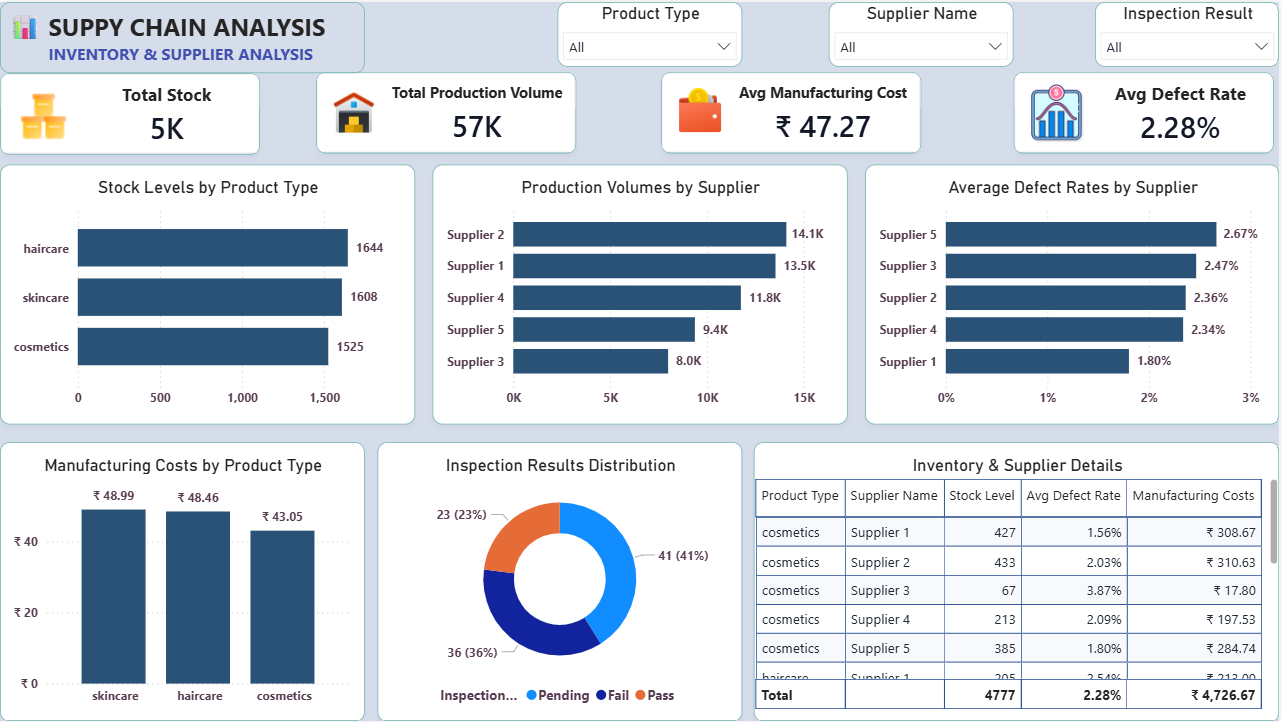

The dashboard page shown, as its layout file describes it:
{"tool":"powerbi","page":{"name":"Inventory & Supplier Analysis","canvas":[1280,720],"ordinal":1},"visuals":[{"type":"cardVisual","fields":{"Data":["supply_chain_clean_data.Total Stock"]},"box":[0,71.2,260,81.2],"z":0},{"type":"cardVisual","fields":{"Data":["supply_chain_clean_data.Total Production Volume"]},"box":[316.2,70,260,81.2],"z":1000},{"type":"cardVisual","fields":{"Data":["supply_chain_clean_data.Avg Manufacturing Cost"]},"box":[661.2,70,260,81.2],"z":2000},{"type":"clusteredBarChart","title":"Stock Levels by Product Type","fields":{"Category":["supply_chain_clean_data.Product_type"],"Y":["Sum(supply_chain_clean_data.Stock_levels)"]},"box":[0,162.5,415,260],"z":3000},{"type":"clusteredBarChart","title":"Production Volumes by Supplier","fields":{"Category":["supply_chain_clean_data.Supplier_name"],"Y":["Sum(supply_chain_clean_data.Production_volumes)"]},"box":[432.5,162.5,415,260],"z":4000},{"type":"clusteredBarChart","title":"Average Defect Rates by Supplier","fields":{"Category":["supply_chain_clean_data.Supplier_name"],"Y":["supply_chain_clean_data.Avg Defect Rate"]},"box":[865,162.5,415,260],"z":5000},{"type":"clusteredColumnChart","title":"Manufacturing Costs by Product Type","fields":{"Category":["supply_chain_clean_data.Product_type"],"Y":["Avg(supply_chain_clean_data.Manufacturing_costs)"]},"box":[0,440,365,280],"z":6000},{"type":"tableEx","title":"Inventory & Supplier Details","fields":{"Values":["supply_chain_clean_data.Product_type","supply_chain_clean_data.Supplier_name","Sum(supply_chain_clean_data.Stock_levels)","supply_chain_clean_data.Avg Defect Rate","Sum(supply_chain_clean_data.Manufacturing_costs)"]},"box":[753.8,440,526.2,280],"z":7000},{"type":"slicer","title":"Product Type","fields":{"Values":["supply_chain_clean_data.Product_type"]},"box":[557.5,0,185,65],"z":8000},{"type":"slicer","title":"Supplier Name ","fields":{"Values":["supply_chain_clean_data.Supplier_name"]},"box":[828.8,0,185,65],"z":9000},{"type":"slicer","title":"Inspection Result","fields":{"Values":["supply_chain_clean_data.Inspection_results"]},"box":[1095,0,185,65],"z":10000},{"type":"donutChart","title":"Inspection Results Distribution","fields":{"Category":["supply_chain_clean_data.Inspection_results"],"Y":["CountNonNull(supply_chain_clean_data.SKU)"]},"box":[377.5,440,365,280],"z":11000},{"type":"cardVisual","fields":{"Data":["supply_chain_clean_data.Avg Defect Rate"]},"box":[1013.8,70,260,81.2],"z":12000},{"type":"textbox","box":[0,0,365,71.2],"z":13000}]}

Visuals, with their boxes in screenshot pixels (x1, y1, x2, y2), scaled from the page's 1280x720 canvas onto the 1282x722 screenshot:
cardVisual - supply_chain_clean_data.Total Stock: left=0, top=71, right=260, bottom=153
cardVisual - supply_chain_clean_data.Total Production Volume: left=317, top=70, right=577, bottom=152
cardVisual - supply_chain_clean_data.Avg Manufacturing Cost: left=662, top=70, right=923, bottom=152
"Stock Levels by Product Type" clusteredBarChart: left=0, top=163, right=416, bottom=424
"Production Volumes by Supplier" clusteredBarChart: left=433, top=163, right=849, bottom=424
"Average Defect Rates by Supplier" clusteredBarChart: left=866, top=163, right=1281, bottom=424
"Manufacturing Costs by Product Type" clusteredColumnChart: left=0, top=441, right=366, bottom=721
"Inventory & Supplier Details" tableEx: left=755, top=441, right=1281, bottom=721
"Product Type" slicer: left=558, top=0, right=744, bottom=65
"Supplier Name " slicer: left=830, top=0, right=1015, bottom=65
"Inspection Result" slicer: left=1097, top=0, right=1281, bottom=65
"Inspection Results Distribution" donutChart: left=378, top=441, right=744, bottom=721
cardVisual - supply_chain_clean_data.Avg Defect Rate: left=1015, top=70, right=1276, bottom=152
textbox: left=0, top=0, right=366, bottom=71
